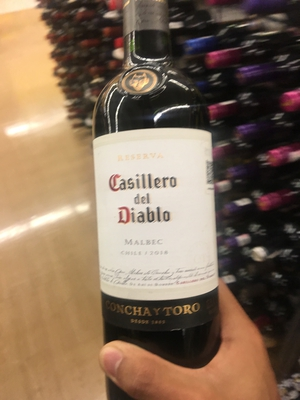casillero del diablo malbec: (74, 3, 241, 389)
